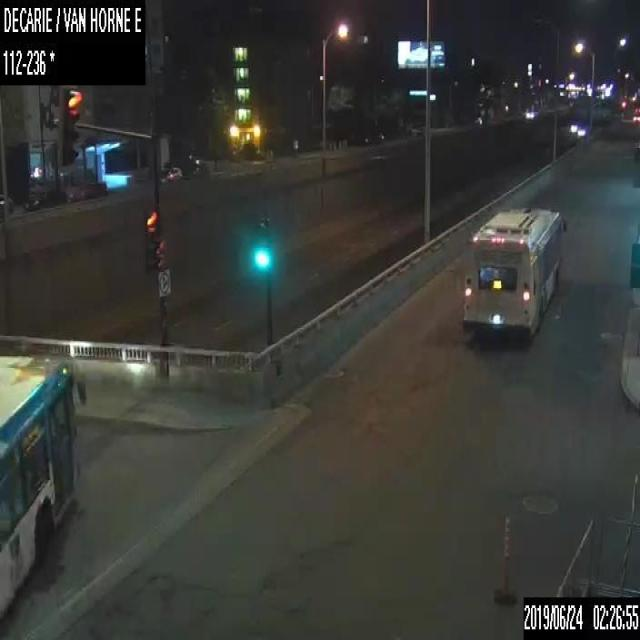bus: (0, 350, 75, 628), (461, 206, 567, 346)
construction: (496, 514, 516, 602)
vehicle: (24, 188, 65, 209), (85, 180, 107, 197), (166, 165, 181, 179), (0, 190, 7, 214)
